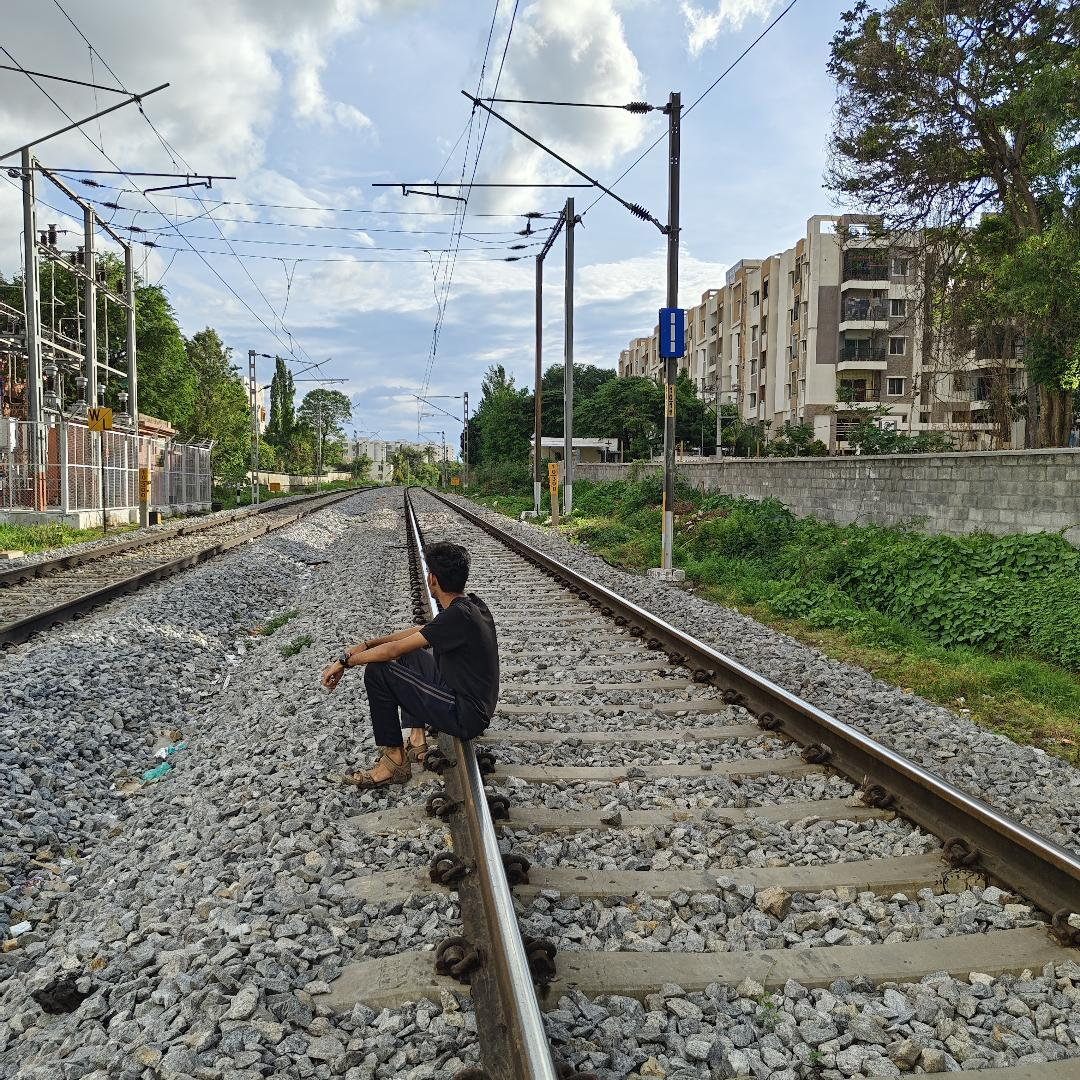sitting: (307, 519, 506, 802)
